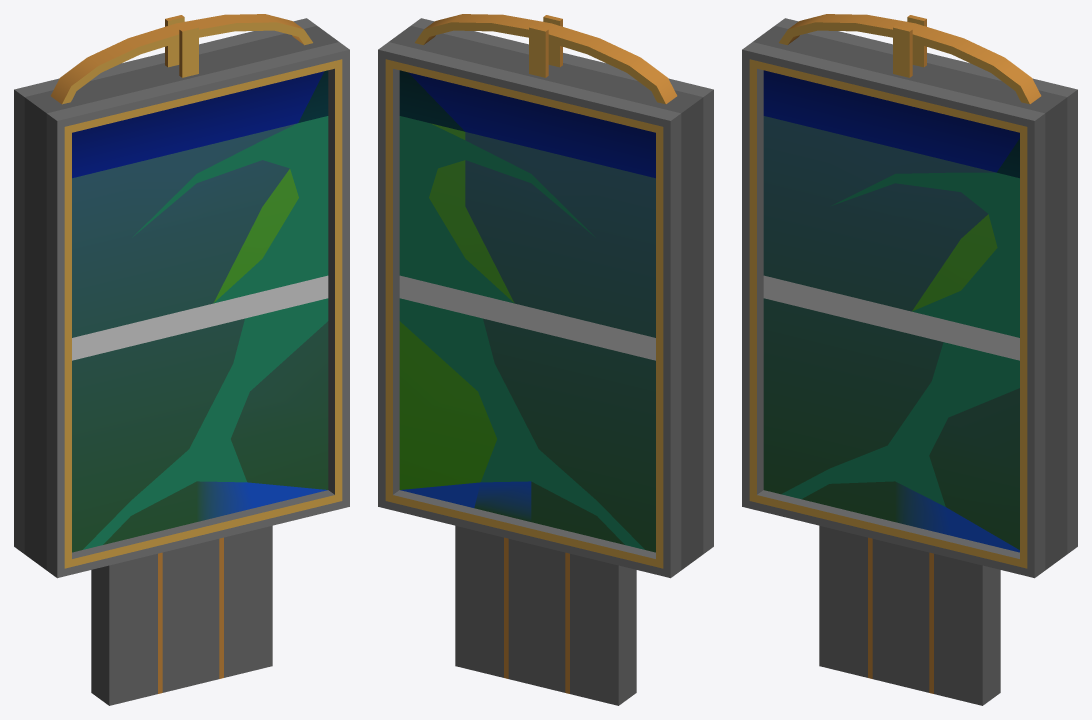
File: AdSign_Map.fbx
The picture shows the model from 3 angles, left to right: view 1: azimuth 30°, elevation 25°; view 2: azimuth 150°, elevation 25°; view 3: azimuth 330°, elevation 25°; orthographic projection.
Visible parts, largest first — view 1: AdSign_Map; view 2: AdSign_Map; view 3: AdSign_Map.
Boxes of the visible parts, left/top/right/bottom form: AdSign_Map: left=14, top=14, right=349, bottom=705; AdSign_Map: left=378, top=14, right=713, bottom=705; AdSign_Map: left=742, top=14, right=1077, bottom=705.
Size of the model in its own units: 123 by 264 by 31.43.
